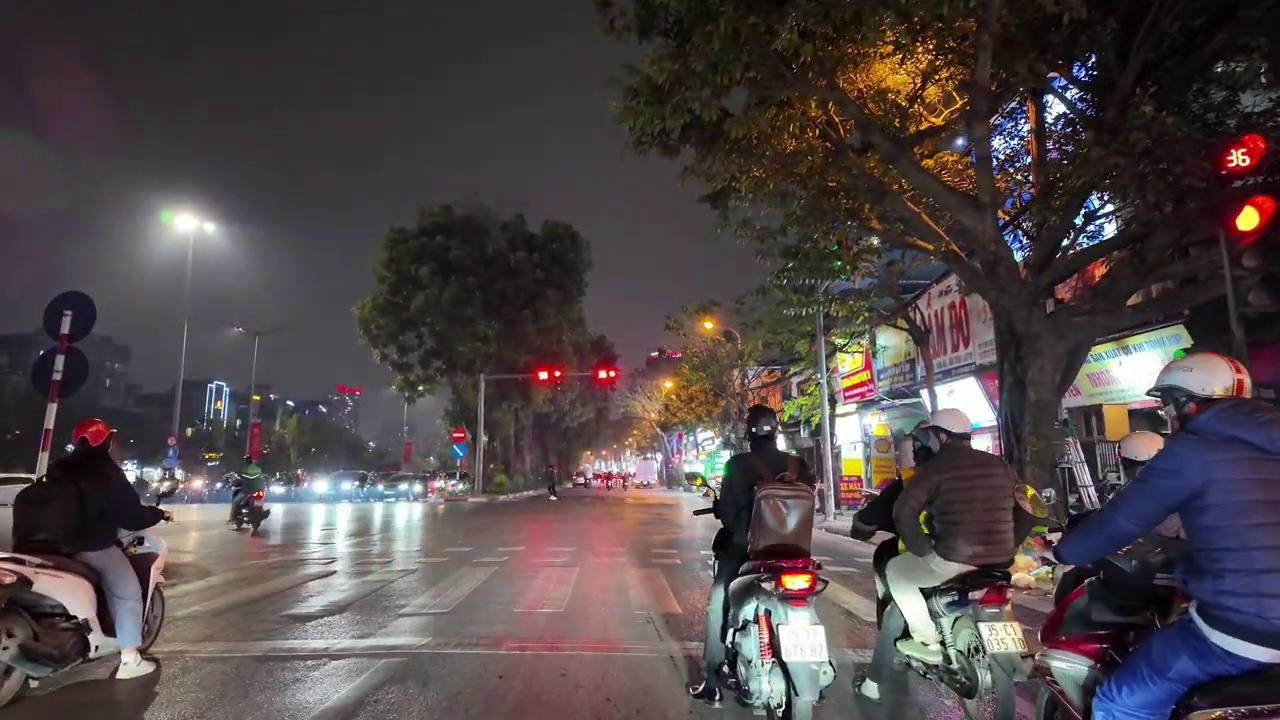acesa: (161, 205, 212, 243), (695, 312, 723, 340)
